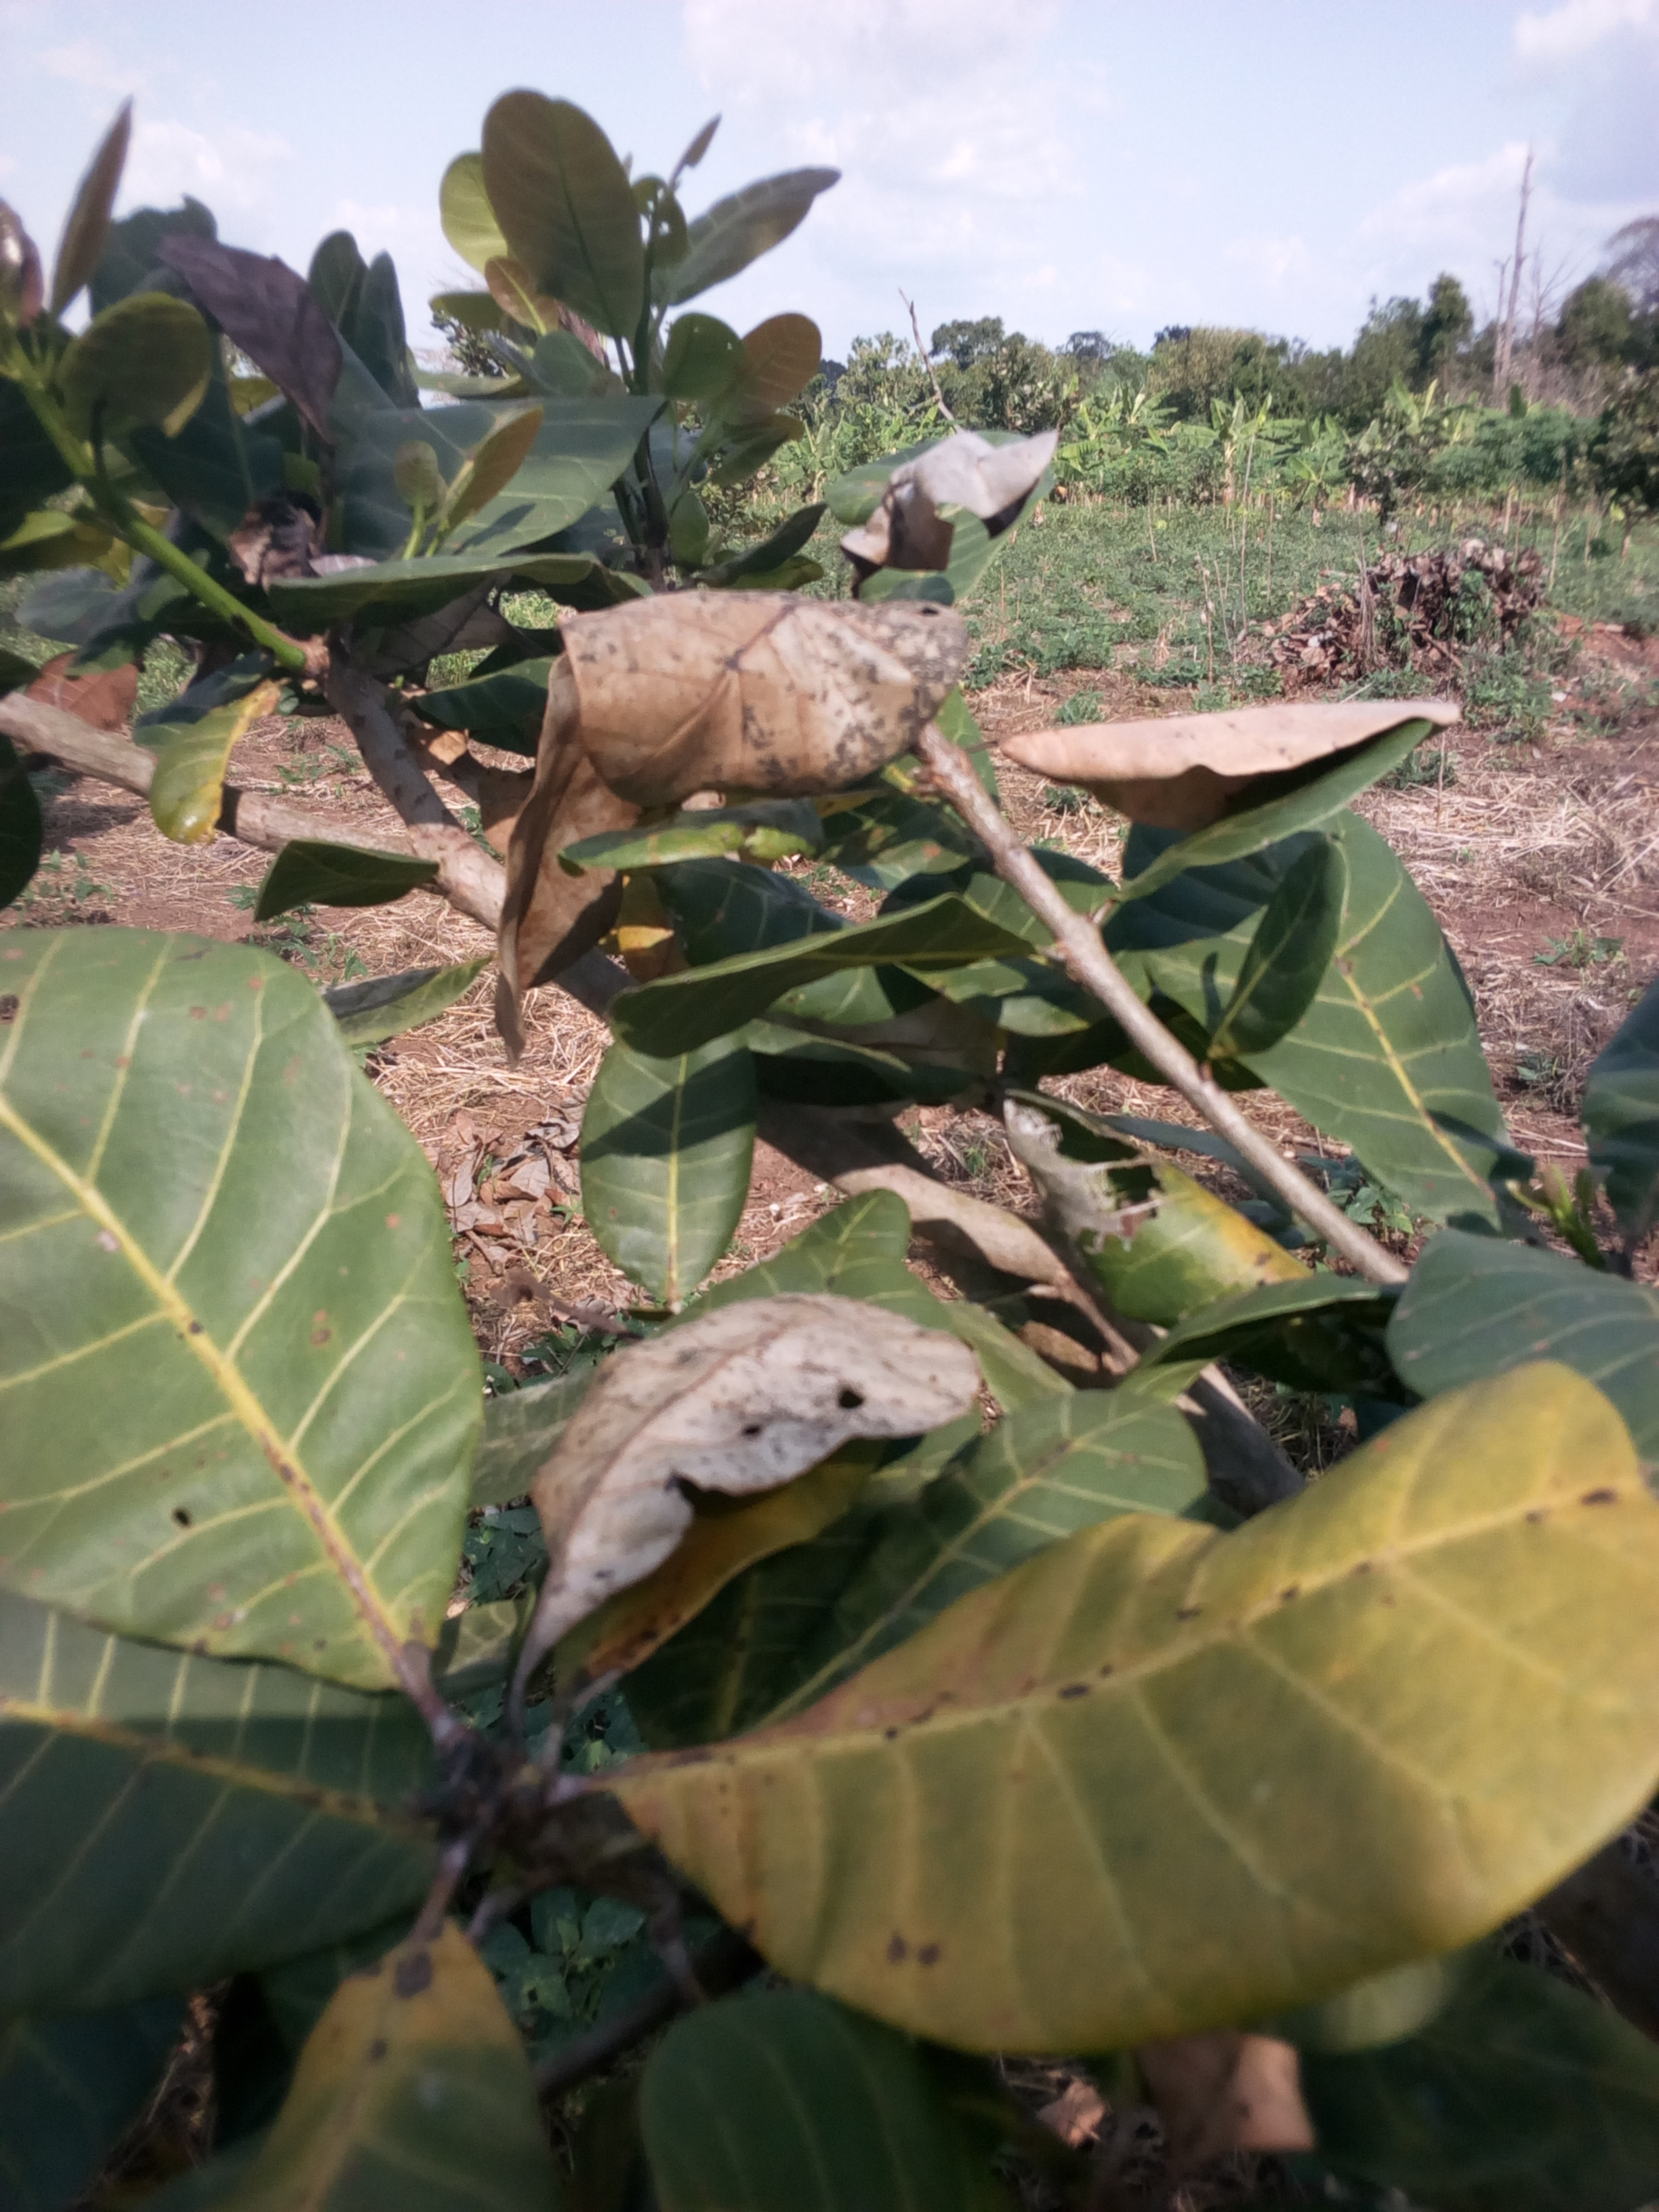Dessèchement des bourgeons: (385, 1632, 626, 1909)
